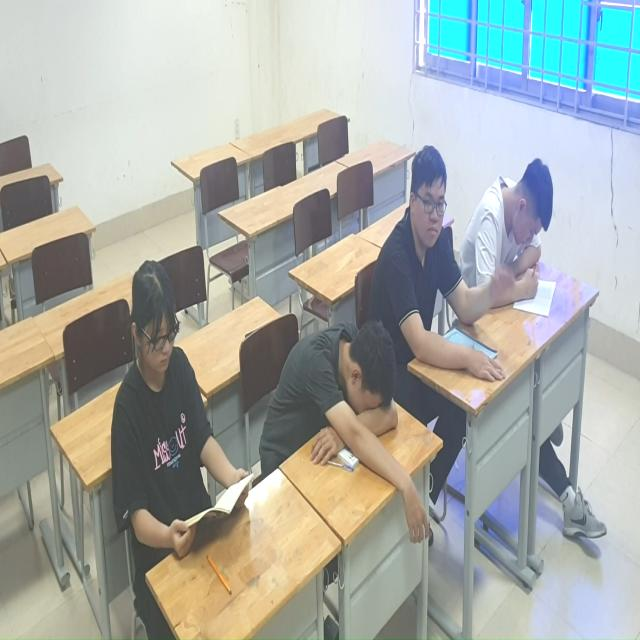read: (104, 255, 258, 595), (468, 151, 559, 334)
sleep: (270, 311, 433, 550)
